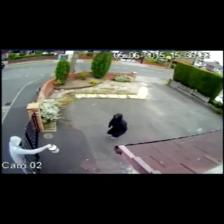person: (10, 136, 51, 165), (108, 114, 127, 139)
